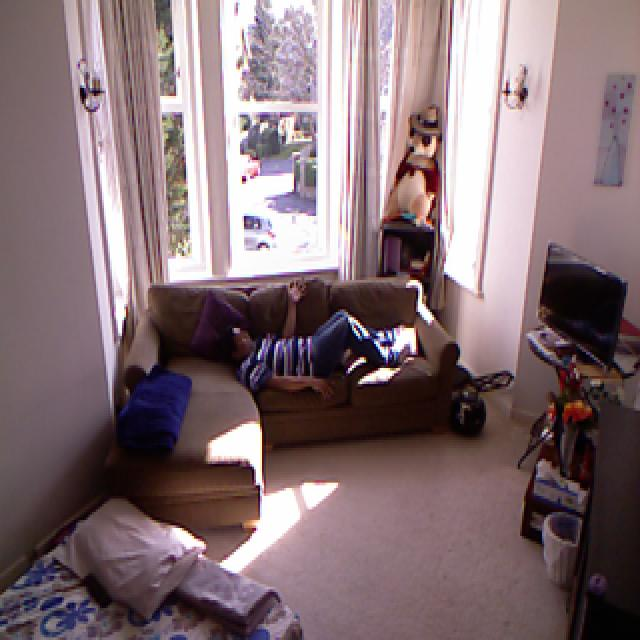lying: (218, 278, 416, 407)
